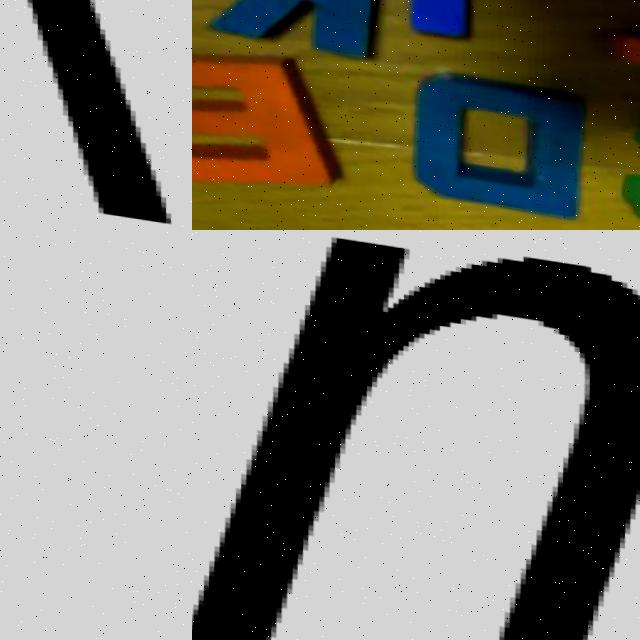D: (385, 62, 589, 219)
E: (192, 29, 345, 196)
J: (384, 0, 582, 51)
K: (192, 0, 385, 56)
U: (192, 230, 640, 640)
Y: (0, 0, 192, 230)
